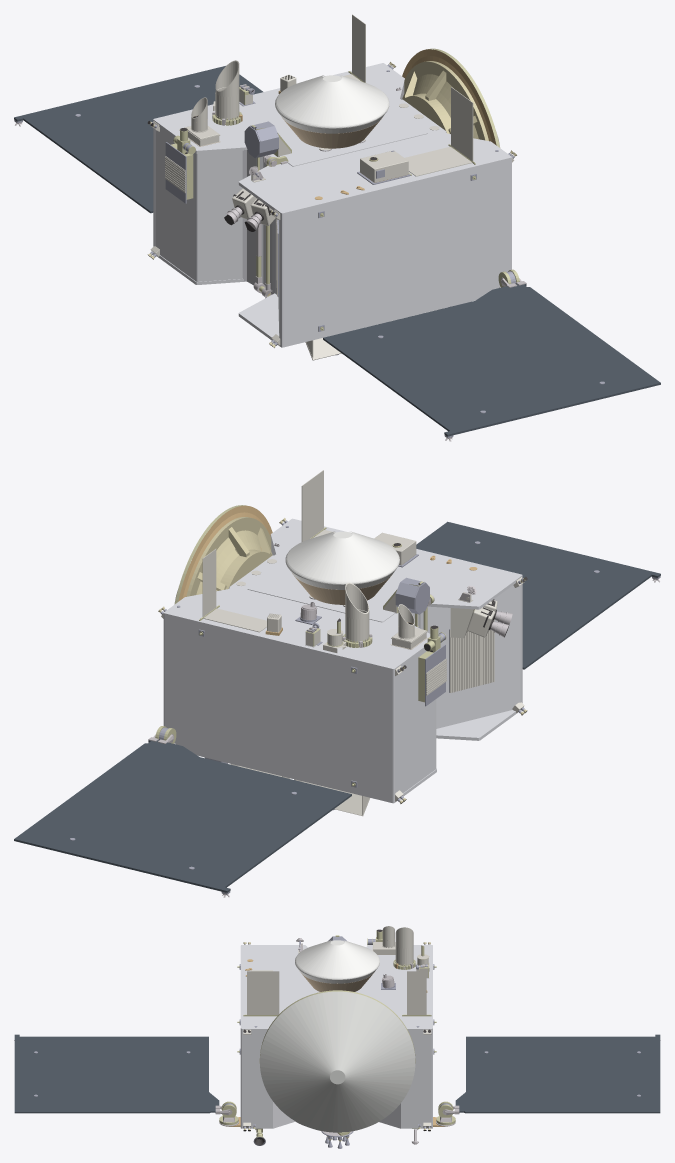
Rendered from space-osiris-rex.glb.
3 renders of one model, top to bottom at view 1: azimuth 30°, elevation 25°; view 2: azimuth 150°, elevation 25°; view 3: azimuth 270°, elevation 25°, orthographic. The views are drawn at different scales.
Parts seen in each view (by area): view 1: Main Layer; view 2: Main Layer; view 3: Main Layer.
Part boxes in pixels (left/top/right/bottom): Main Layer: left=14, top=14, right=660, bottom=441; Main Layer: left=14, top=470, right=660, bottom=897; Main Layer: left=14, top=926, right=660, bottom=1148.
Bounding box in the file's own units: 13.72 × 12.01 × 34.65.
1 material, 1 textured.
